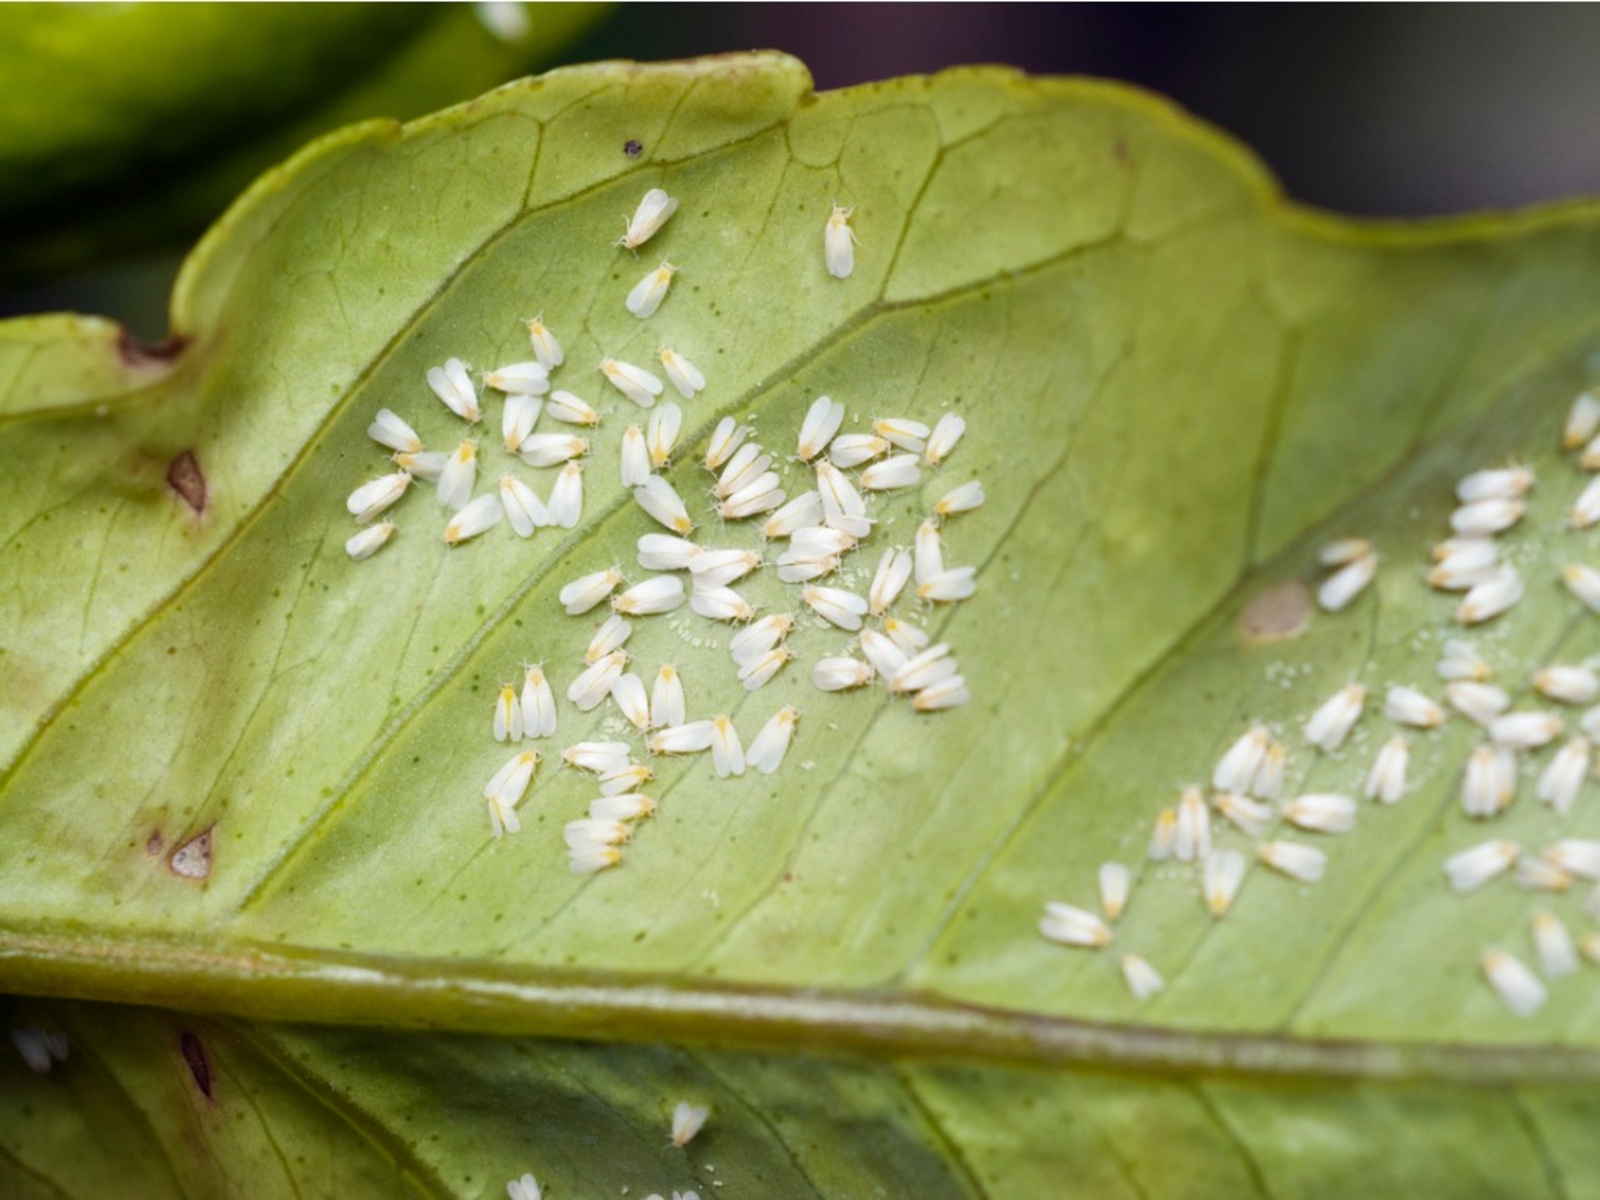Tobacco Whitefly: (677, 545, 766, 649), (323, 462, 443, 536), (810, 191, 879, 298), (777, 367, 845, 462), (746, 593, 797, 696), (706, 409, 765, 498), (448, 434, 506, 516), (643, 398, 695, 462), (537, 467, 608, 511), (630, 278, 679, 333), (597, 365, 655, 411), (614, 423, 634, 498)
